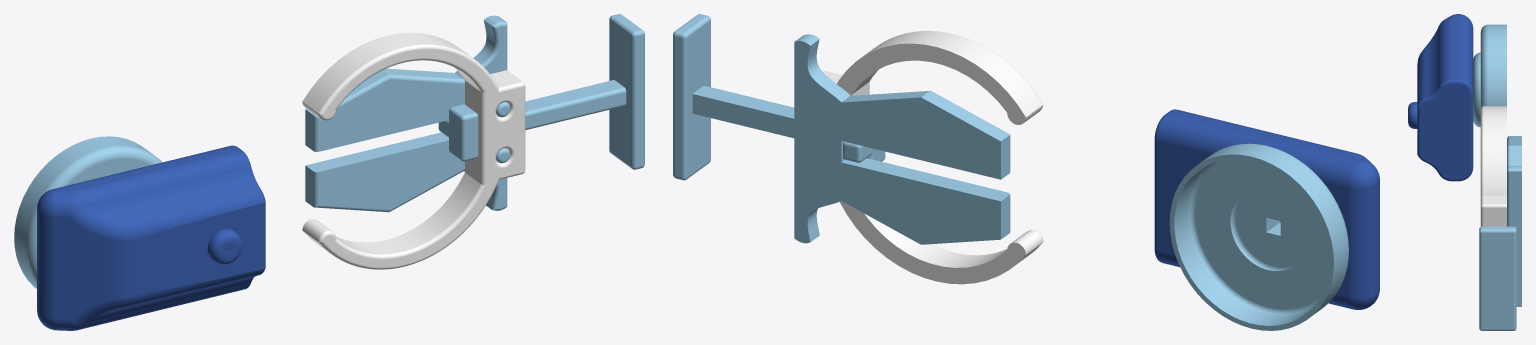
Rendered from Bobsled_Assembly.gltf.
3 renders of one model, left to right at view 1: azimuth 30°, elevation 25°; view 2: azimuth 150°, elevation 25°; view 3: azimuth 270°, elevation 25°, orthographic. The views are drawn at different scales.
Parts seen in each view (by area): view 1: Bobsled-1, Back Connector-1, Arms part-2, Pusher-1, Disk-1; view 2: Back Connector-1, Disk-1, Bobsled-1, Arms part-2, Pusher-1; view 3: Bobsled-1, Pusher-1, Arms part-2, Disk-1, Back Connector-1.
Part boxes in pixels (x1=…): Bobsled-1: x1=37, y1=145, x2=265, y2=330; Back Connector-1: x1=305, y1=15, x2=510, y2=212; Arms part-2: x1=302, y1=32, x2=525, y2=269; Pusher-1: x1=438, y1=14, x2=644, y2=169; Disk-1: x1=14, y1=136, x2=162, y2=288; Back Connector-1: x1=794, y1=34, x2=1010, y2=244; Disk-1: x1=1169, y1=143, x2=1348, y2=330; Bobsled-1: x1=1154, y1=109, x2=1379, y2=309; Arms part-2: x1=823, y1=31, x2=1043, y2=284; Pusher-1: x1=673, y1=14, x2=885, y2=180; Bobsled-1: x1=1408, y1=14, x2=1473, y2=181; Pusher-1: x1=1479, y1=226, x2=1516, y2=330; Arms part-2: x1=1480, y1=106, x2=1506, y2=226; Disk-1: x1=1473, y1=24, x2=1506, y2=127; Back Connector-1: x1=1507, y1=136, x2=1521, y2=306.
Size of the model in its own units: 0.1794 by 0.0606 by 0.0387.
